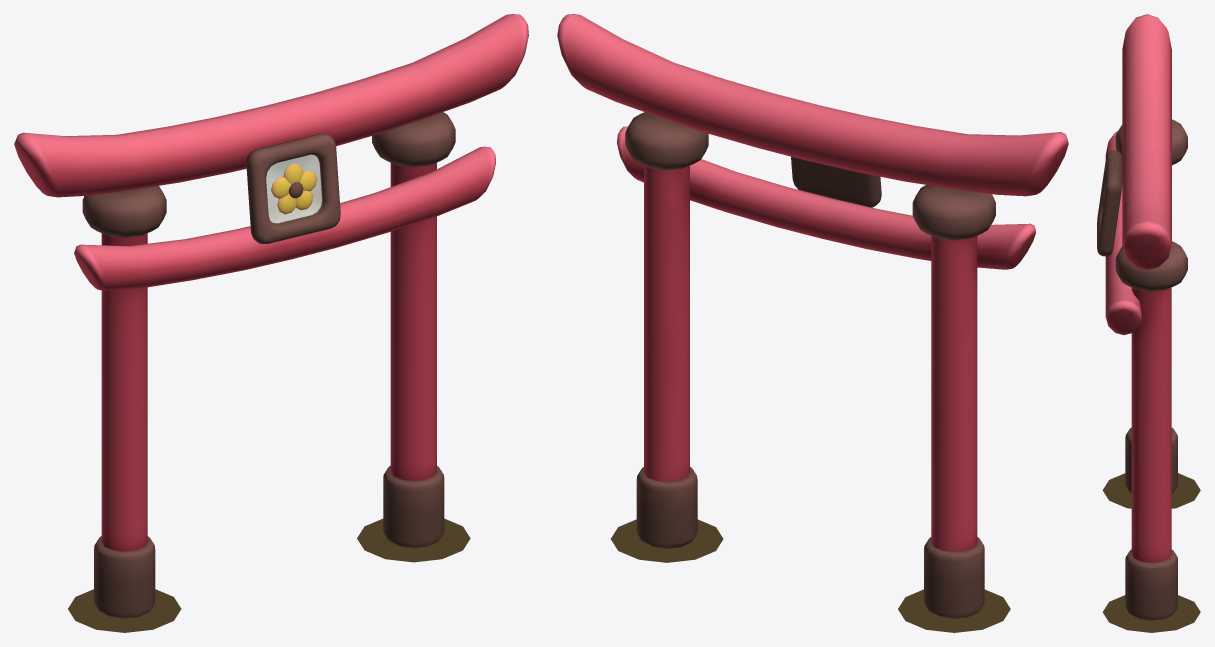
The model's file is Torri01.fbx.
3 renders of one model, left to right at view 1: azimuth 30°, elevation 25°; view 2: azimuth 150°, elevation 25°; view 3: azimuth 270°, elevation 25°, orthographic. The views are drawn at different scales.
Visible parts, largest first — view 1: polySurface12, polySurface4, polySurface1; view 2: polySurface12, polySurface1, polySurface4; view 3: polySurface12, polySurface1, polySurface4.
Part boxes in pixels (x1,y1,x2,y2): polySurface12: (14, 14, 528, 618); polySurface4: (246, 133, 340, 243); polySurface1: (68, 518, 470, 632); polySurface12: (557, 14, 1068, 618); polySurface1: (611, 519, 1010, 632); polySurface4: (791, 156, 881, 207); polySurface12: (1105, 14, 1187, 620); polySurface1: (1102, 473, 1200, 632); polySurface4: (1097, 150, 1122, 256).
Bounding box in the file's own units: 524 × 497 × 108.
